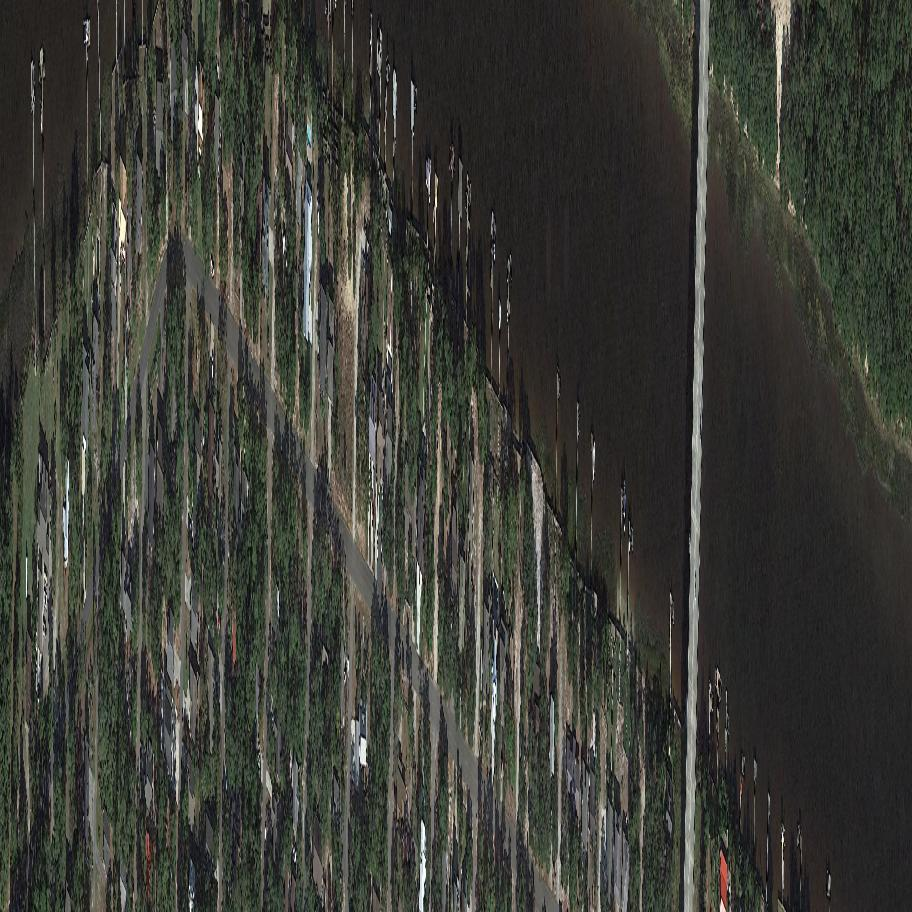ship: (428, 158, 431, 206), (381, 473, 384, 520), (317, 203, 320, 245), (210, 255, 214, 285), (593, 436, 595, 484), (493, 215, 495, 263), (292, 842, 296, 865), (203, 409, 205, 451), (264, 823, 266, 856)
small-vehicle: (255, 732, 261, 757), (43, 590, 47, 612), (21, 698, 24, 725), (211, 354, 213, 391), (371, 488, 373, 525), (408, 842, 410, 876), (119, 263, 121, 296), (694, 575, 696, 608), (316, 185, 318, 218), (346, 651, 349, 672), (127, 293, 129, 324), (380, 531, 382, 562), (49, 513, 51, 542), (363, 215, 366, 233), (362, 251, 365, 269), (376, 535, 378, 561), (43, 623, 46, 640), (257, 752, 260, 769), (699, 416, 701, 440), (209, 372, 211, 396), (37, 695, 40, 710), (26, 555, 27, 599), (36, 619, 37, 654), (36, 660, 37, 694), (501, 750, 502, 784), (126, 293, 127, 326), (520, 725, 521, 758), (190, 523, 192, 539), (285, 241, 286, 269), (411, 832, 412, 857)
